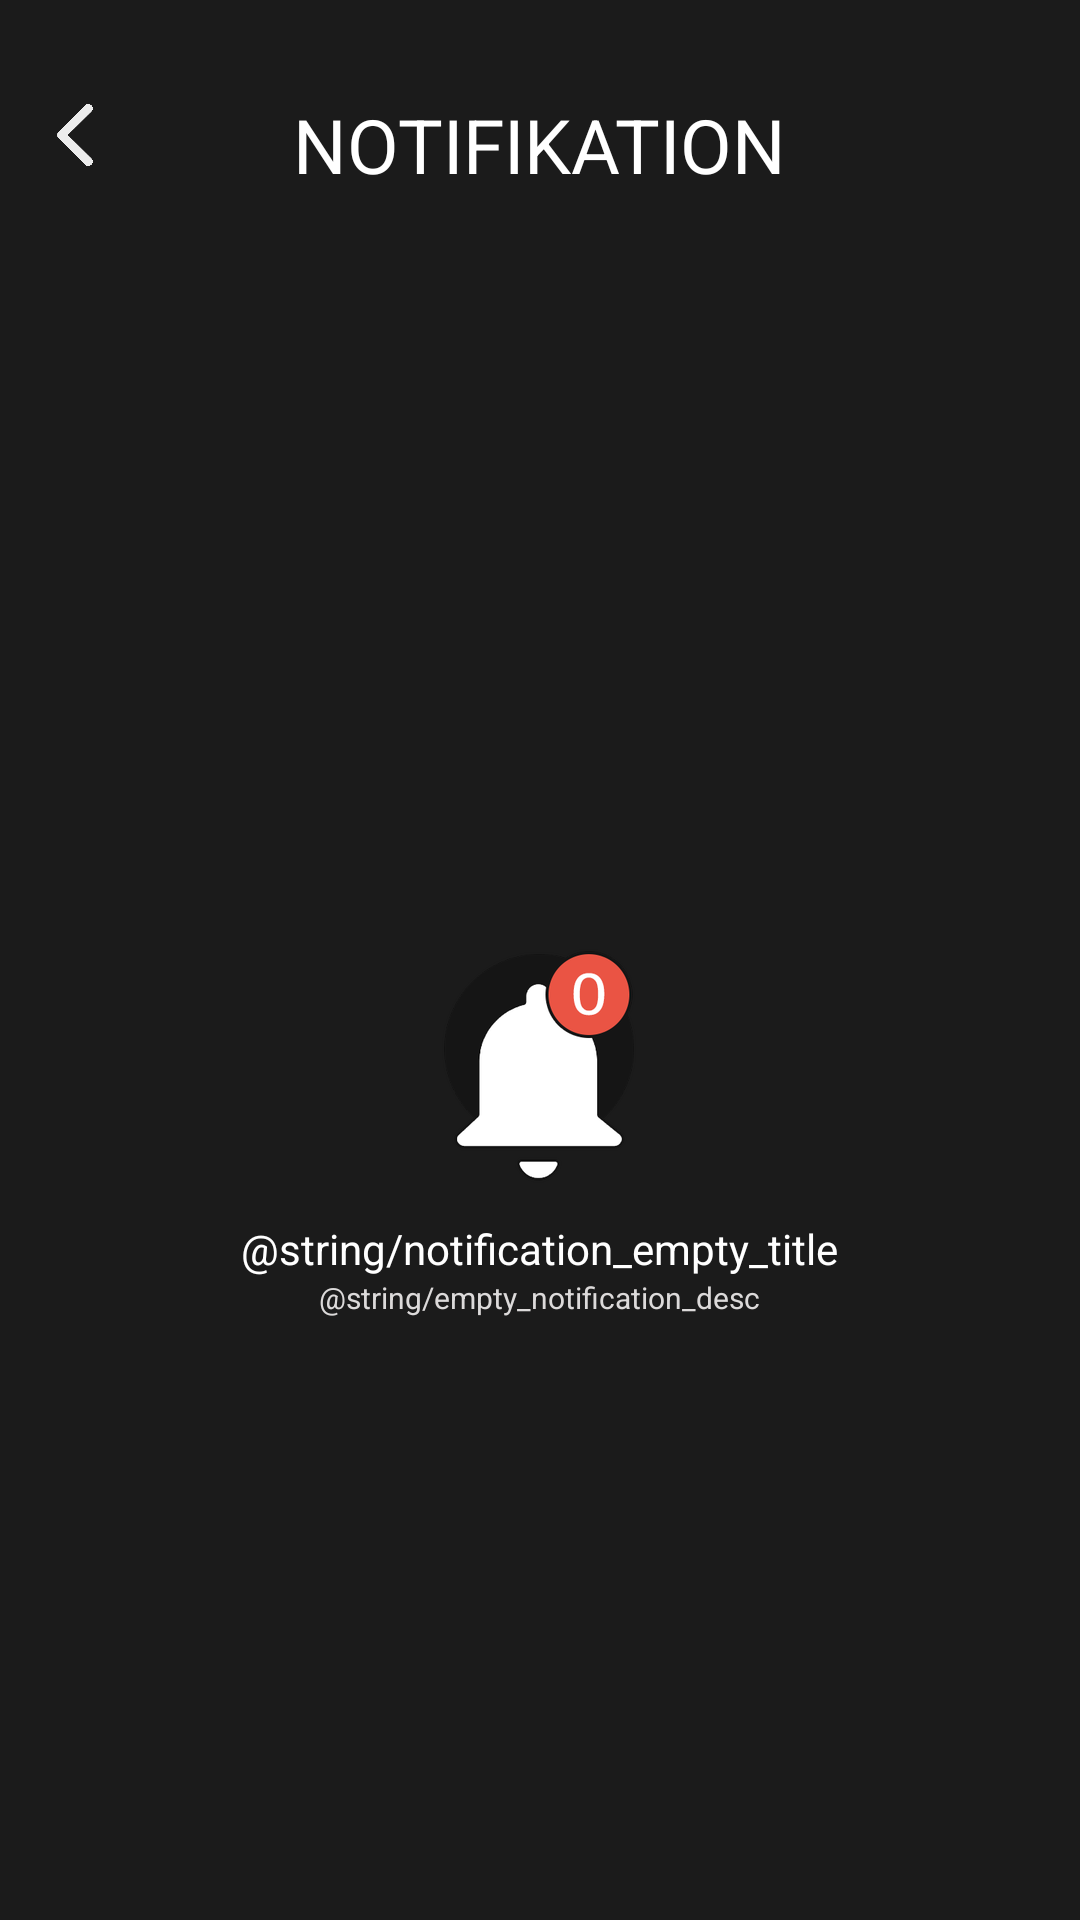

Where icons sit on this 1080px x 1920px app screen, as [x1=x1, y1=y1, x2=x2, y2=y2]:
back arrow: [x1=57, y1=104, x2=93, y2=166]
